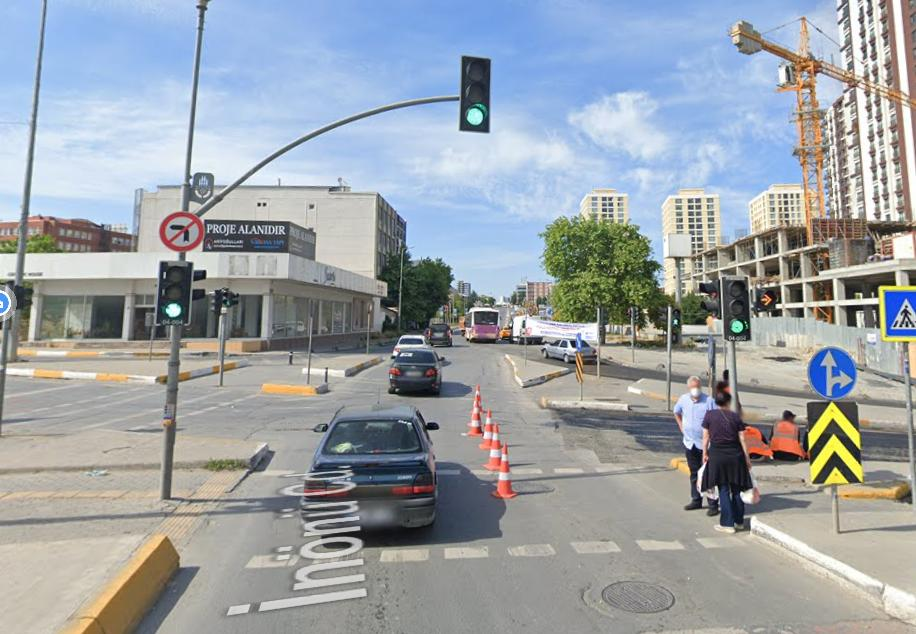greenlight: (460, 55, 490, 126), (159, 261, 189, 323), (721, 276, 752, 334)
leftturnsareforbidden: (159, 211, 205, 250)
